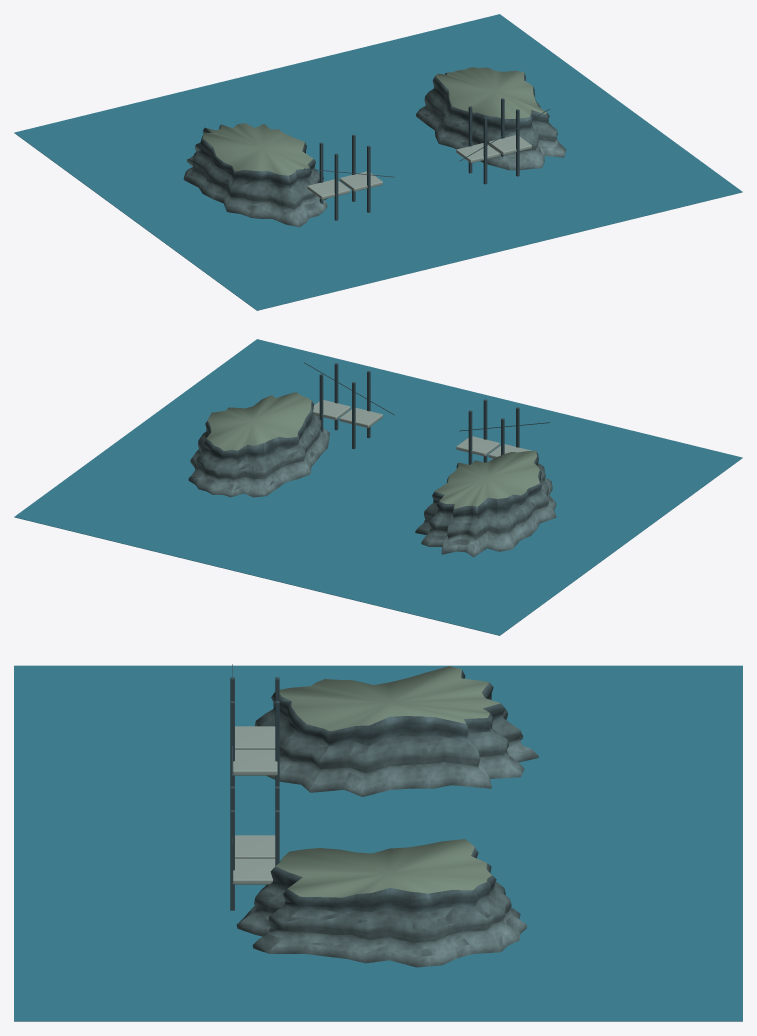
File: broken-bridge-v1.glb
3 renders of one model, top to bottom at view 1: azimuth 30°, elevation 25°; view 2: azimuth 150°, elevation 25°; view 3: azimuth 270°, elevation 25°, orthographic. The views are drawn at different scales.
Parts seen in each view (by area): view 1: River, broken-bridge mantle, broken-bridge strata 0, broken-bridge strata 1, broken-bridge strata 2, broken-bridge alloy, broken-bridge trim; view 2: River, broken-bridge mantle, broken-bridge strata 0, broken-bridge strata 1, broken-bridge strata 2, broken-bridge alloy, broken-bridge trim; view 3: River, broken-bridge mantle, broken-bridge strata 1, broken-bridge strata 0, broken-bridge strata 2, broken-bridge trim, broken-bridge alloy.
Part boxes in pixels (x1=…): River: x1=14, y1=14, x2=742, y2=310; broken-bridge mantle: x1=202, y1=67, x2=546, y2=175; broken-bridge strata 0: x1=183, y1=105, x2=566, y2=227; broken-bridge strata 1: x1=192, y1=88, x2=557, y2=209; broken-bridge strata 2: x1=200, y1=73, x2=549, y2=188; broken-bridge alloy: x1=304, y1=98, x2=549, y2=220; broken-bridge trim: x1=307, y1=135, x2=531, y2=199; River: x1=14, y1=339, x2=742, y2=635; broken-bridge mantle: x1=206, y1=392, x2=539, y2=508; broken-bridge strata 0: x1=188, y1=428, x2=556, y2=557; broken-bridge strata 1: x1=196, y1=412, x2=548, y2=539; broken-bridge strata 2: x1=204, y1=401, x2=541, y2=519; broken-bridge alloy: x1=304, y1=362, x2=550, y2=464; broken-bridge trim: x1=313, y1=400, x2=531, y2=458; River: x1=14, y1=665, x2=742, y2=1021; broken-bridge mantle: x1=276, y1=666, x2=500, y2=897; broken-bridge strata 1: x1=254, y1=709, x2=521, y2=942; broken-bridge strata 0: x1=236, y1=734, x2=538, y2=967; broken-bridge strata 2: x1=270, y1=670, x2=505, y2=912; broken-bridge trim: x1=232, y1=726, x2=277, y2=884; broken-bridge alloy: x1=230, y1=664, x2=279, y2=910.
Size of the model in its own units: 150 by 20.2 by 130.
Materials: 7 (3 with a texture image).
